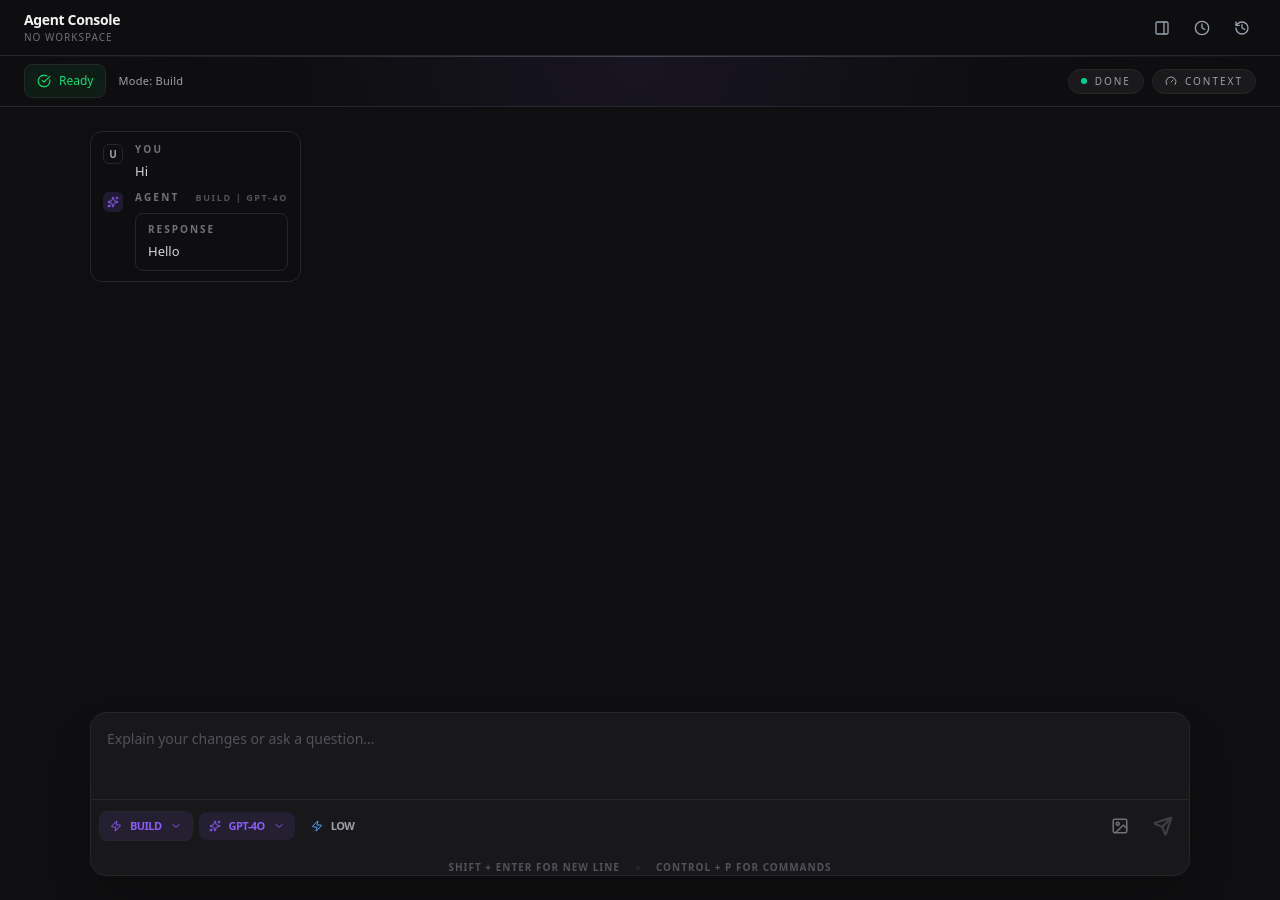
Test case: Chat timeline toggle › toggles between stream and timeline views
The width and height of the screenshot is (1280, 900).
Click the button titled "Switch to timeline view".
click(1202, 28)  # box [1188,14,1216,42]
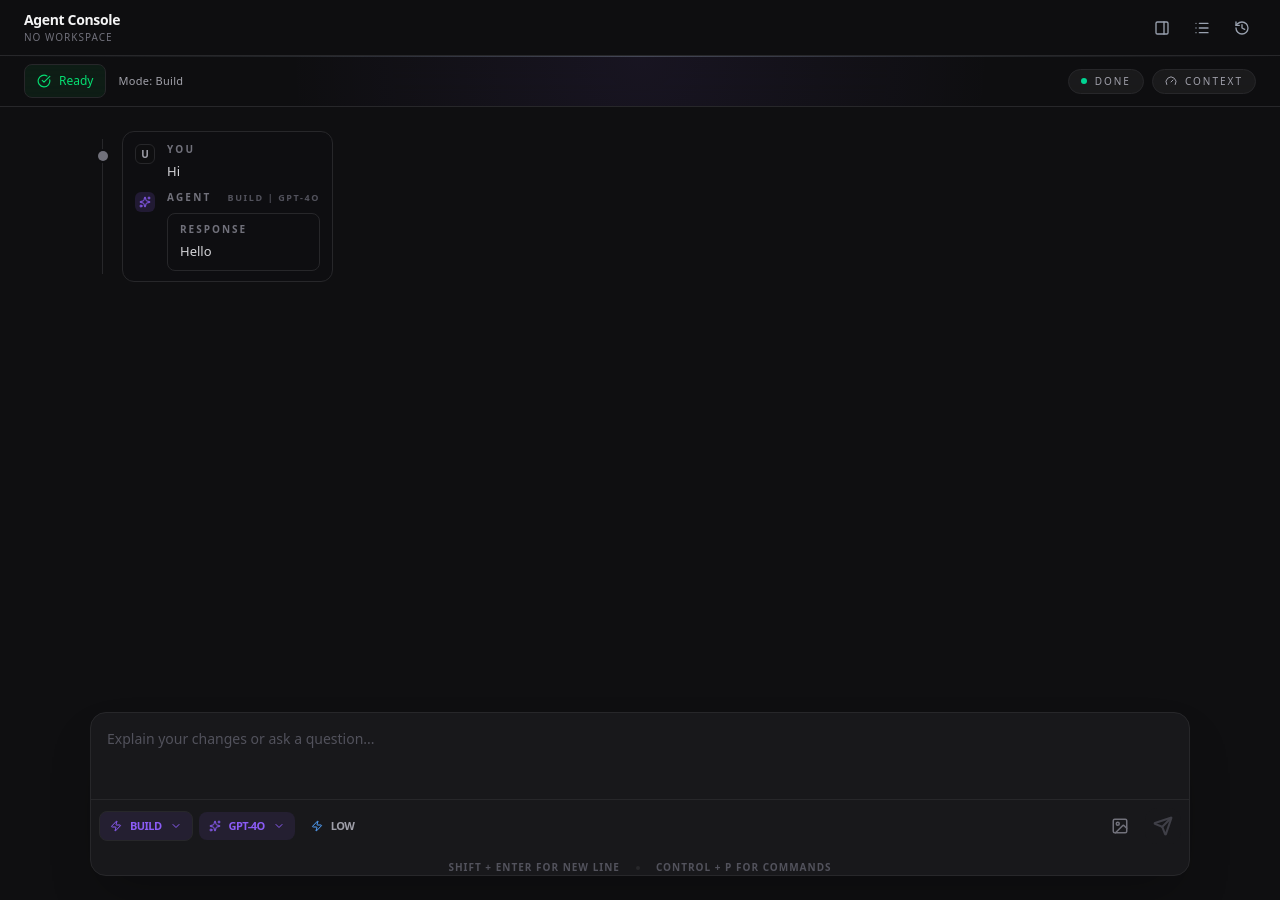
Result: the element with test id "timeline-view" is shown at [98,131,333,282]
Result: the button titled "Switch to stream view" is shown at [1188,14,1216,42]
